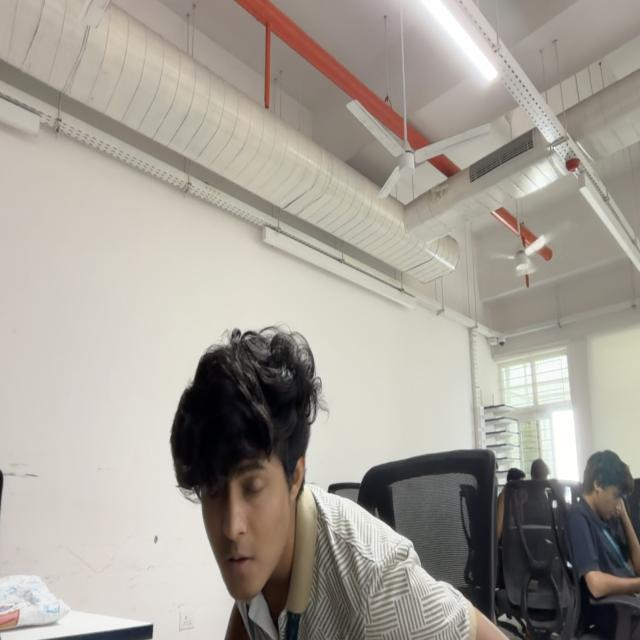kshitij: (169, 332, 318, 599)
